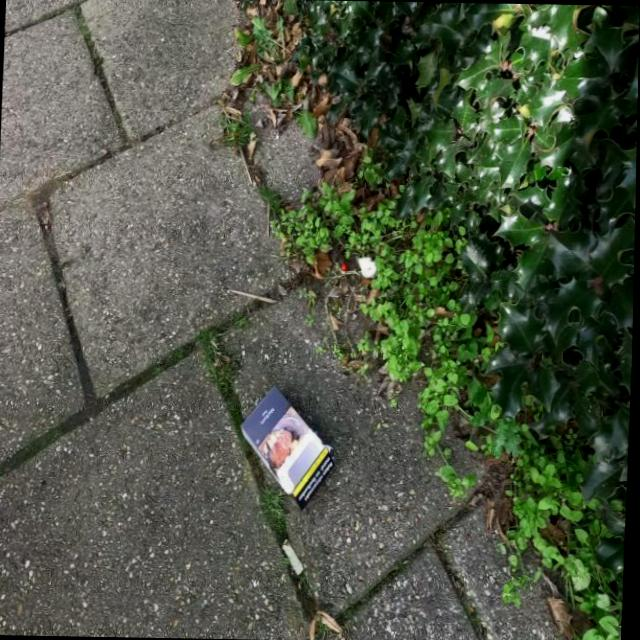Paper: (236, 380, 342, 515)
